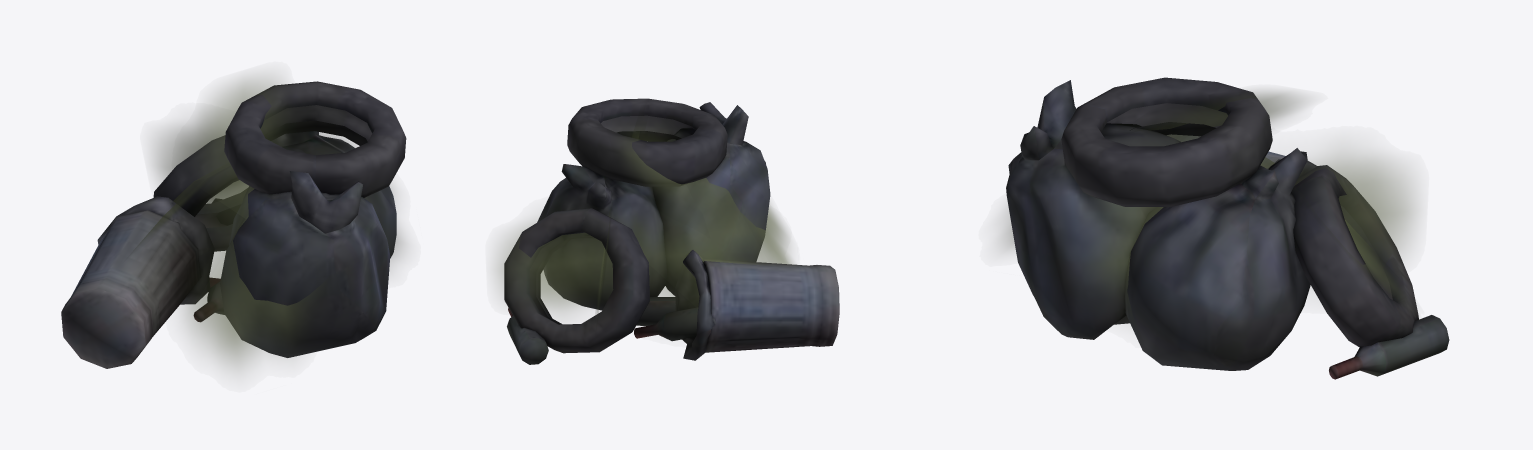
File: Pollution.glb
3 views of the same model, side by side, from view 1: azimuth 30°, elevation 25°; view 2: azimuth 150°, elevation 25°; view 3: azimuth 270°, elevation 25° (orthographic). The views are drawn at different scales.
Visible parts, largest first — view 1: 3, Plane.004, Plane.005, Plane.003; view 2: 3, Plane.003, Plane.004, Plane.005; view 3: 3, Plane.005, Plane.004, Plane.003.
Boxes of the visible parts, <box> form: 3: <box>61,81,406,368</box>; Plane.004: <box>183,77,326,369</box>; Plane.005: <box>154,125,404,263</box>; Plane.003: <box>135,166,222,248</box>; 3: <box>504,98,839,364</box>; Plane.003: <box>495,188,770,324</box>; Plane.004: <box>618,126,793,263</box>; Plane.005: <box>596,122,643,313</box>; 3: <box>1006,77,1449,379</box>; Plane.005: <box>1074,136,1416,318</box>; Plane.004: <box>1001,91,1304,249</box>; Plane.003: <box>1260,157,1410,308</box>.
Size of the model in its own units: 3.57 by 3.16 by 4.49.
2 materials, 2 textured.
